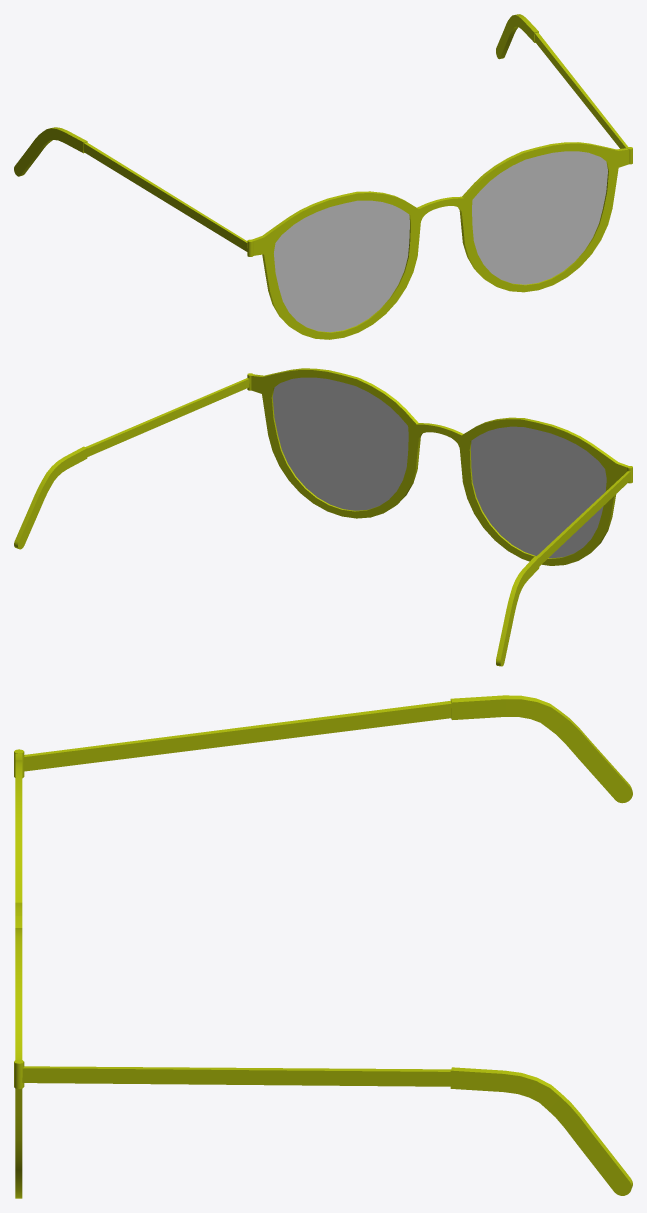
The model's file is glasses1.001.obj.
3 views of the same model, one above another, from view 1: azimuth 30°, elevation 25°; view 2: azimuth 150°, elevation 25°; view 3: azimuth 270°, elevation 25° (orthographic). The views are drawn at different scales.
Parts seen in each view (by area): view 1: glasses1.001_glasses1.001_black, glasses1.001_glasses1.001_Material.011; view 2: glasses1.001_glasses1.001_black, glasses1.001_glasses1.001_Material.011; view 3: glasses1.001_glasses1.001_Material.011.
Part boxes in pixels (x1=…): glasses1.001_glasses1.001_black: x1=274, y1=151, x2=607, y2=332; glasses1.001_glasses1.001_Material.011: x1=14, y1=14, x2=632, y2=339; glasses1.001_glasses1.001_black: x1=272, y1=377, x2=606, y2=558; glasses1.001_glasses1.001_Material.011: x1=14, y1=368, x2=632, y2=666; glasses1.001_glasses1.001_Material.011: x1=14, y1=695, x2=632, y2=1198.
Size of the model in its own units: 2.2 by 0.6109 by 1.45.
